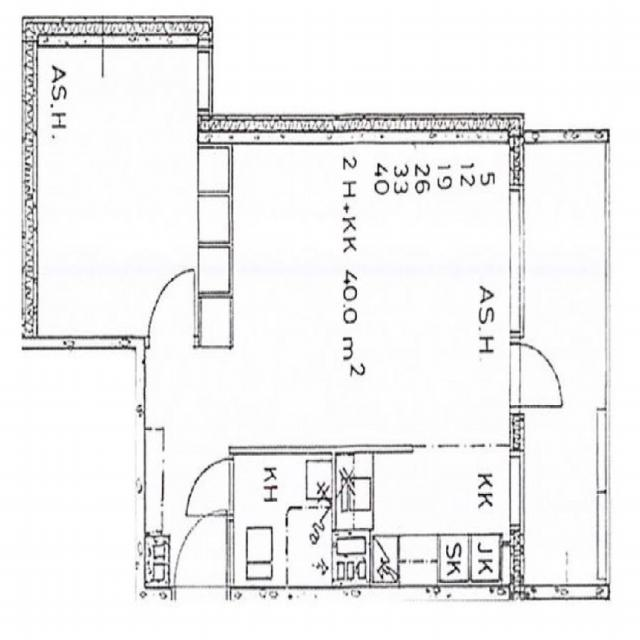door: (174, 507, 226, 601), (509, 343, 566, 406), (149, 271, 193, 346), (191, 460, 233, 516)
